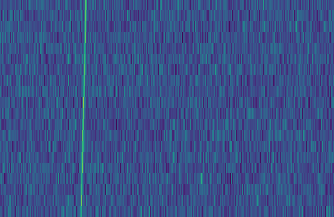signal: (75, 0, 89, 217)
